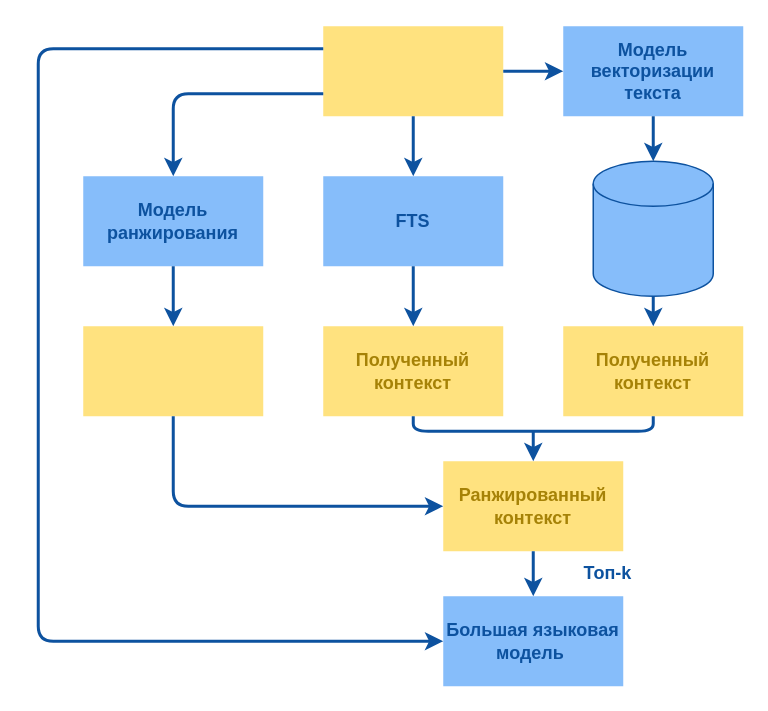
This 768x711 diagram has some shape labels left out. The centre of each missing label's shape, as x and y in pixels:
Векторная база данных: the point at 652,228
Вопрос: the point at 412,71
Предсказанная категория: the point at 172,371
